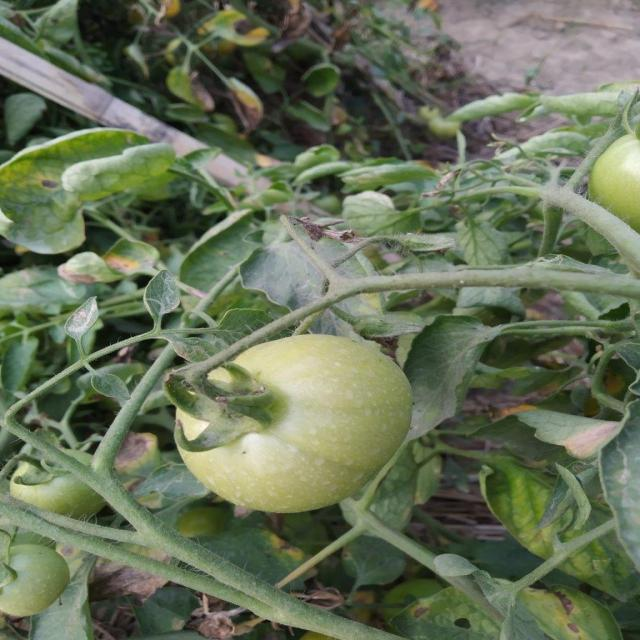Unripe: (177, 330, 411, 515)
